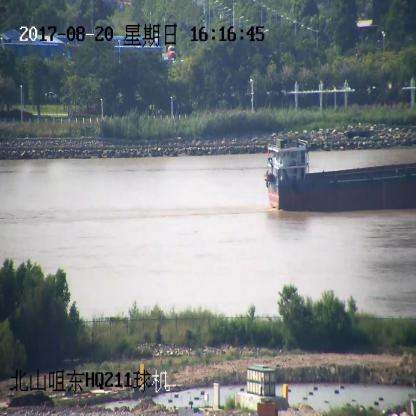Bulk Carrier: (266, 139, 416, 213)
